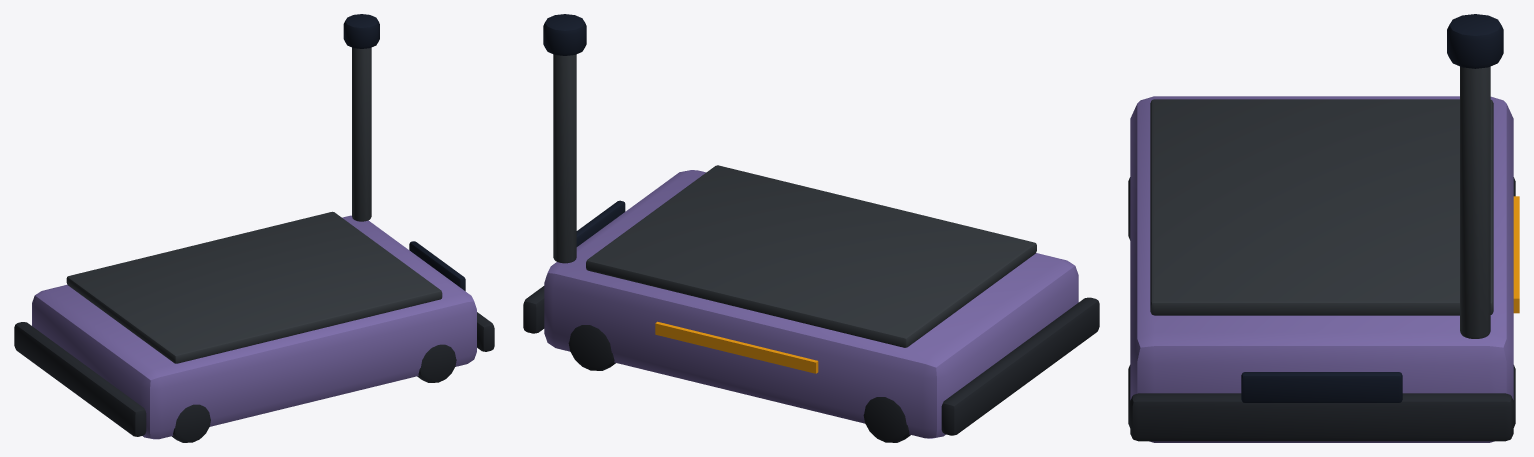
The model's file is agv.glb.
3 renders of one model, left to right at view 1: azimuth 30°, elevation 25°; view 2: azimuth 150°, elevation 25°; view 3: azimuth 270°, elevation 25°, orthographic. The views are drawn at different scales.
Visible parts, largest first — view 1: body, lift; view 2: body, lift; view 3: body, lift.
Part boxes in pixels (x1,y1,x2,y2): body: (14, 14, 494, 442); lift: (66, 211, 442, 363); body: (523, 14, 1099, 442); lift: (586, 165, 1036, 347); body: (1128, 14, 1519, 442); lift: (1150, 99, 1493, 315).
Bounding box in the file's own units: 1.64 × 1.18 × 0.97.
